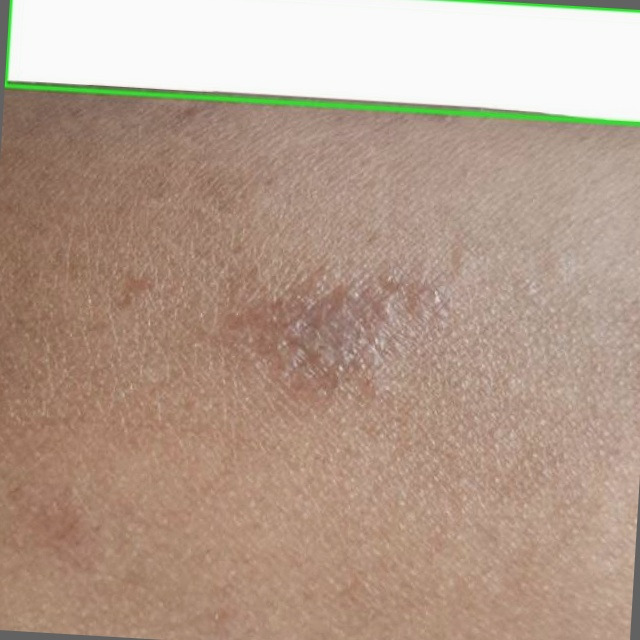Scabies: (5, 0, 639, 123)
